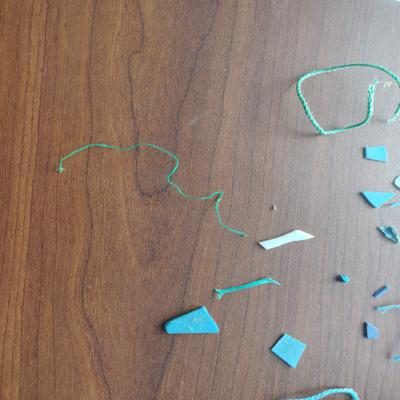plastic: (157, 302, 226, 339), (256, 225, 321, 254), (268, 331, 309, 372), (359, 183, 397, 210), (362, 142, 392, 166), (376, 222, 399, 248), (362, 319, 388, 342), (371, 282, 391, 297), (334, 270, 350, 287)
thread: (48, 140, 250, 241), (293, 62, 400, 138), (210, 275, 287, 301), (294, 383, 364, 400), (374, 305, 400, 317)
